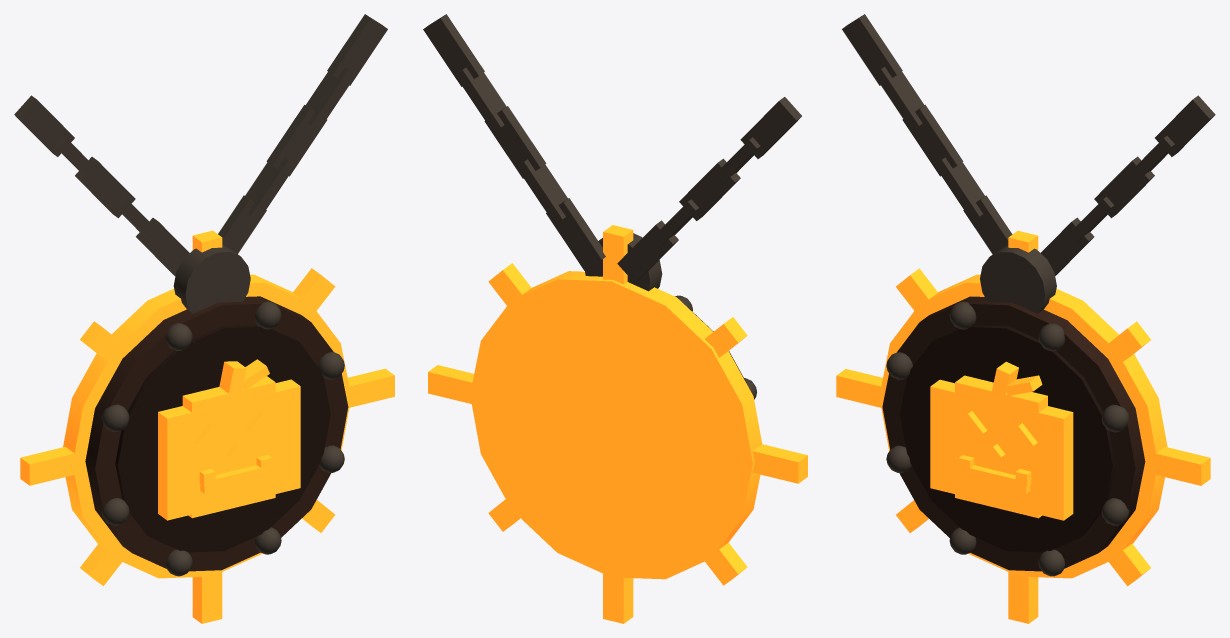
The picture shows the model from 3 angles, left to right: view 1: azimuth 30°, elevation 25°; view 2: azimuth 150°, elevation 25°; view 3: azimuth 330°, elevation 25°; orthographic projection.
Parts seen in each view (by area): view 1: pendant-pumpkin; view 2: pendant-pumpkin; view 3: pendant-pumpkin.
Part boxes in pixels (left/top/right/bottom): pendant-pumpkin: left=14, top=14, right=394, bottom=623; pendant-pumpkin: left=423, top=14, right=807, bottom=623; pendant-pumpkin: left=836, top=14, right=1215, bottom=623.
Bounding box in the file's own units: 0.2333 × 0.3372 × 0.0472.
